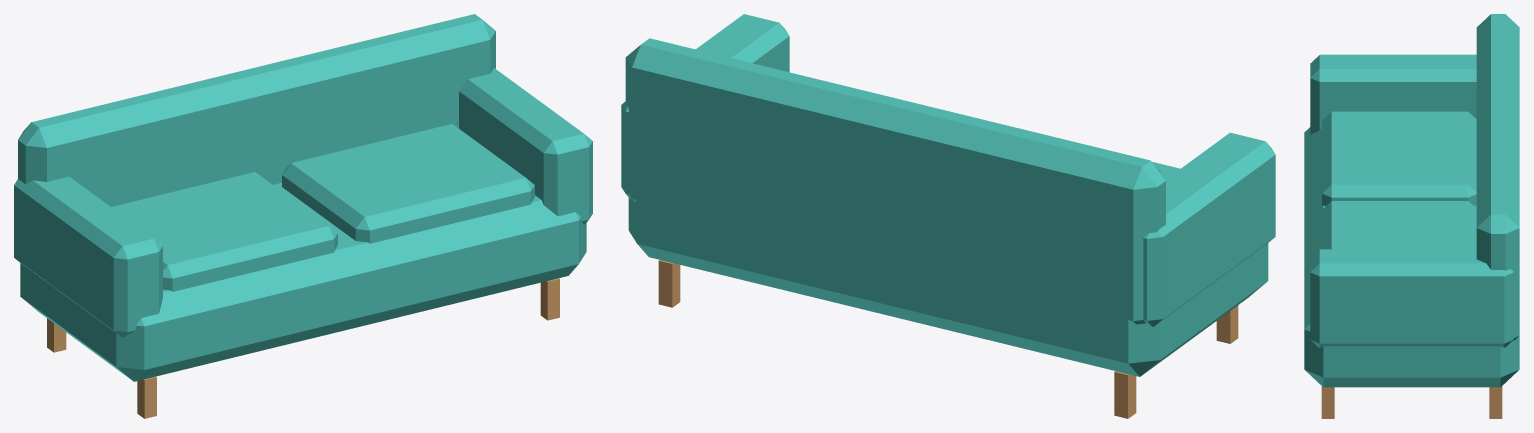
File: sofa.glb
The picture shows the model from 3 angles, left to right: view 1: azimuth 30°, elevation 25°; view 2: azimuth 150°, elevation 25°; view 3: azimuth 270°, elevation 25°; orthographic projection. The views are drawn at different scales.
Parts seen in each view (by area): view 1: sofa; view 2: sofa; view 3: sofa.
Boxes of the visible parts, x1=… form: sofa: x1=14, y1=14, x2=592, y2=418; sofa: x1=621, y1=14, x2=1275, y2=418; sofa: x1=1304, y1=14, x2=1519, y2=418.
Size of the model in its own units: 2.14 by 0.9709 by 0.9.
